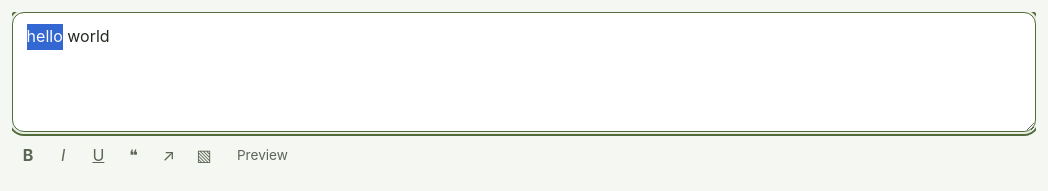
MarkdownComposer › preserves the selection for repeated formatting actions
This screenshot has width=1048, height=191.
Click the button "B" at {"x": 28, "y": 156}, box [12,138,44,174]
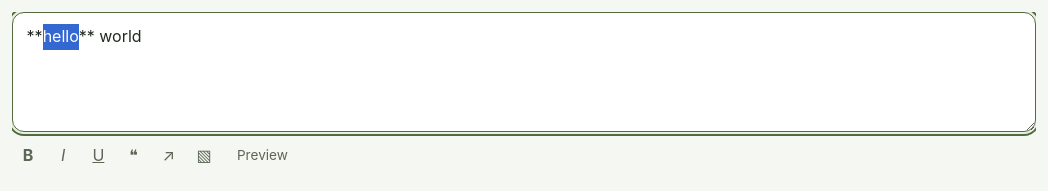
Expected: the text box holds "**hello** world"
Click the button "I" at {"x": 63, "y": 156}, box [47,138,79,174]
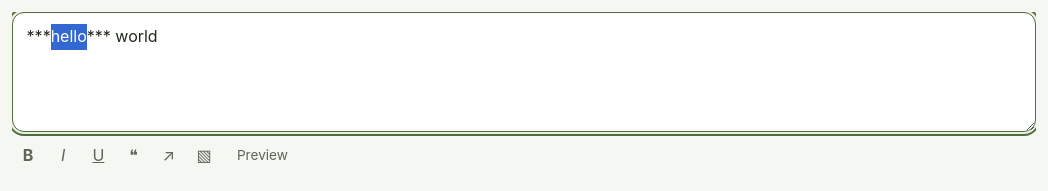
Expected: the text box holds "***hello*** world"
